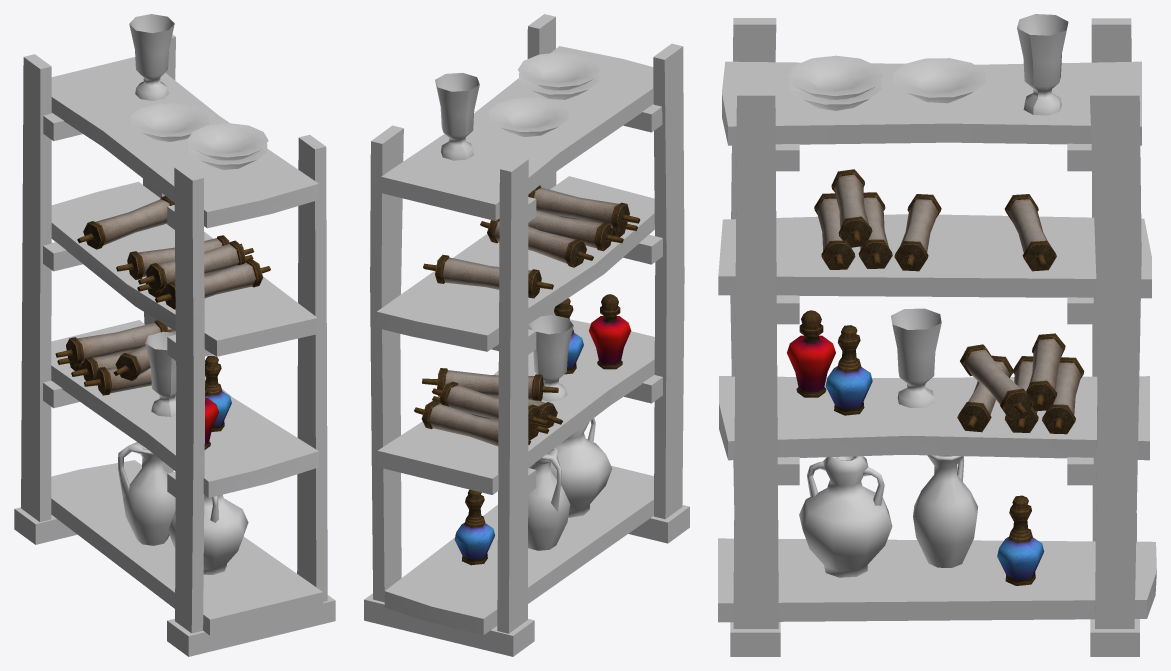
Rendered from Cupboard_04.fbx.
The picture shows the model from 3 angles, left to right: view 1: azimuth 30°, elevation 25°; view 2: azimuth 150°, elevation 25°; view 3: azimuth 270°, elevation 25°; orthographic projection. The views are drawn at different scales.
Visible parts, largest first — view 1: Cupboard_04; view 2: Cupboard_04; view 3: Cupboard_04.
Part boxes in pixels (x1,y1,x2,y2): Cupboard_04: (14,14,335,656); Cupboard_04: (364,14,689,656); Cupboard_04: (718,14,1156,656).
Bounding box in the file's own units: 0.8272 × 2.76 × 1.82.
